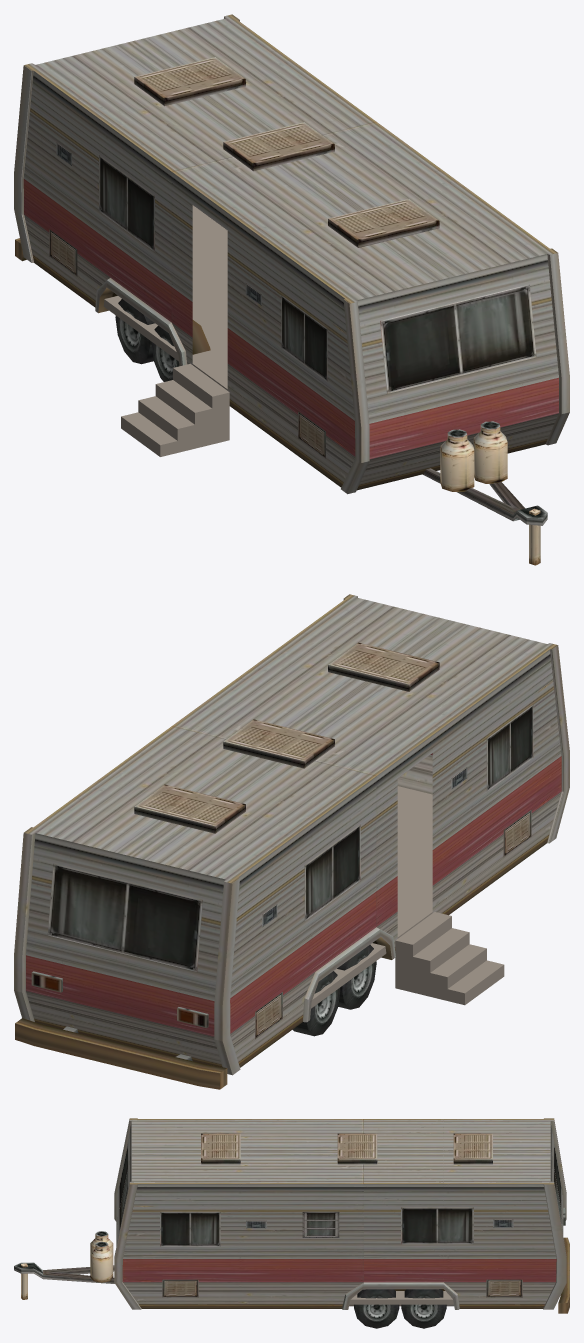
Rendered from rural-trailer.access-v3.lod0.glb.
3 renders of one model, top to bottom at view 1: azimuth 30°, elevation 25°; view 2: azimuth 150°, elevation 25°; view 3: azimuth 270°, elevation 25°, orthographic. The views are drawn at different scales.
Parts seen in each view (by area): view 1: Rural_TrailerH_1_Rural_Trailer_Stuff_1_0, Walkable floors and stairs; view 2: Rural_TrailerH_1_Rural_Trailer_Stuff_1_0, Walkable floors and stairs; view 3: Rural_TrailerH_1_Rural_Trailer_Stuff_1_0, Walkable floors and stairs.
Part boxes in pixels (x1,y1,x2,y2): Rural_TrailerH_1_Rural_Trailer_Stuff_1_0: (14, 14, 569, 565); Walkable floors and stairs: (103, 205, 229, 456); Rural_TrailerH_1_Rural_Trailer_Stuff_1_0: (14, 594, 569, 1089); Walkable floors and stairs: (311, 786, 504, 1008); Rural_TrailerH_1_Rural_Trailer_Stuff_1_0: (14, 1118, 569, 1328); Walkable floors and stairs: (349, 1291, 453, 1304).
Bounding box in the file's own units: 3.72 × 2.98 × 9.88.
2 materials, 1 textured.
